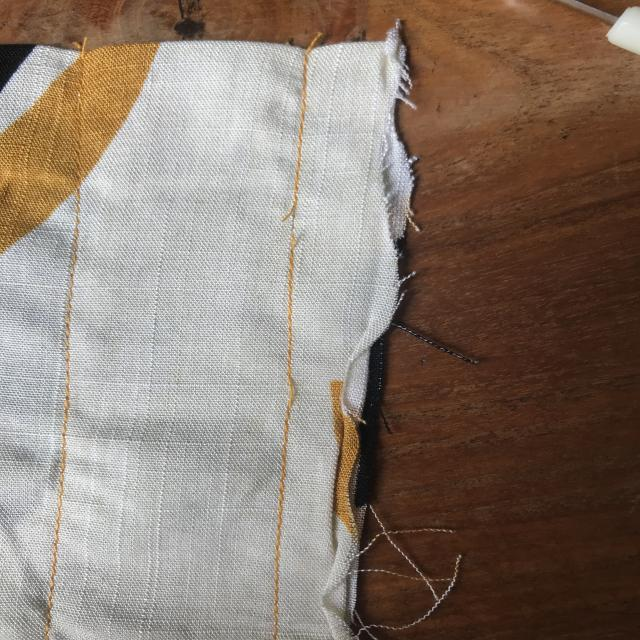broken: (259, 187, 329, 254)
good: (269, 473, 300, 552)
skip: (262, 360, 304, 424)
